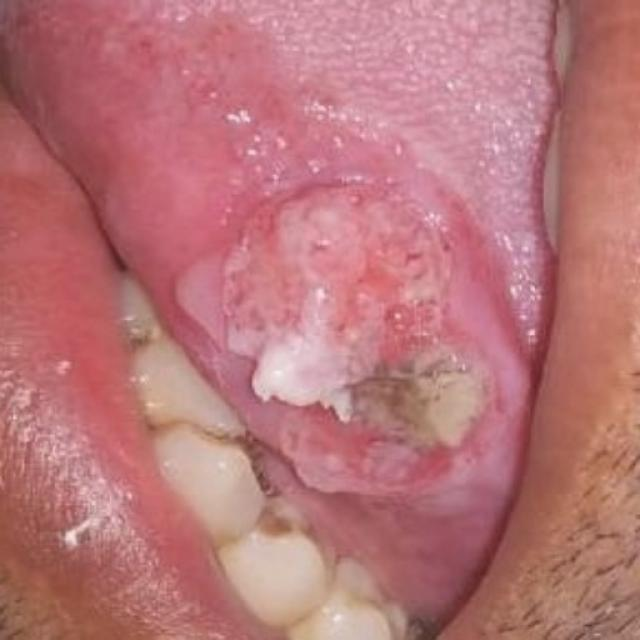cancer-detection: (151, 124, 534, 545)
processing_area: (1, 0, 551, 637)
